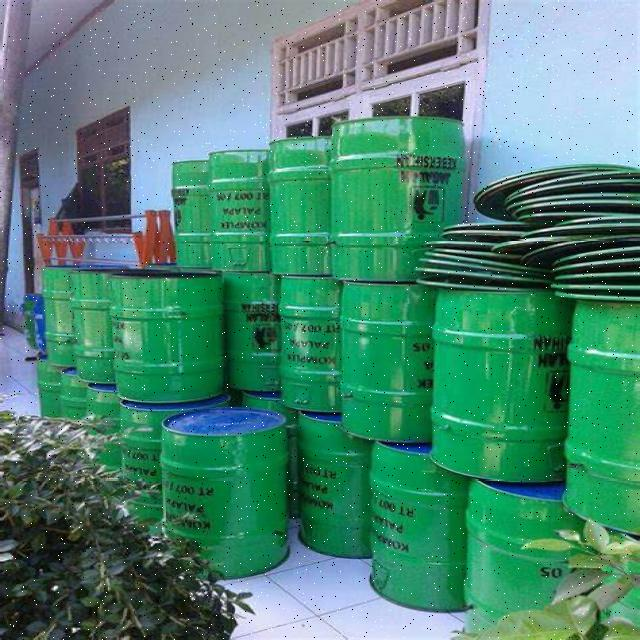garbage container: (322, 62, 483, 286), (424, 282, 572, 486), (160, 400, 298, 570), (471, 472, 595, 636), (322, 276, 434, 445), (366, 440, 466, 619), (118, 258, 242, 402), (573, 280, 640, 533), (296, 418, 390, 570), (92, 388, 172, 540), (268, 136, 352, 274), (60, 248, 143, 386), (276, 286, 357, 425), (163, 136, 234, 274), (201, 137, 276, 266)
